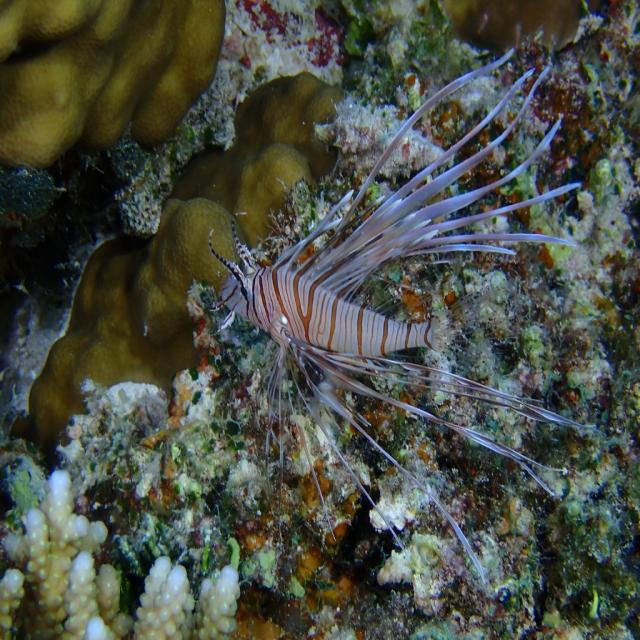Aslan Baligi: (204, 44, 598, 586)
